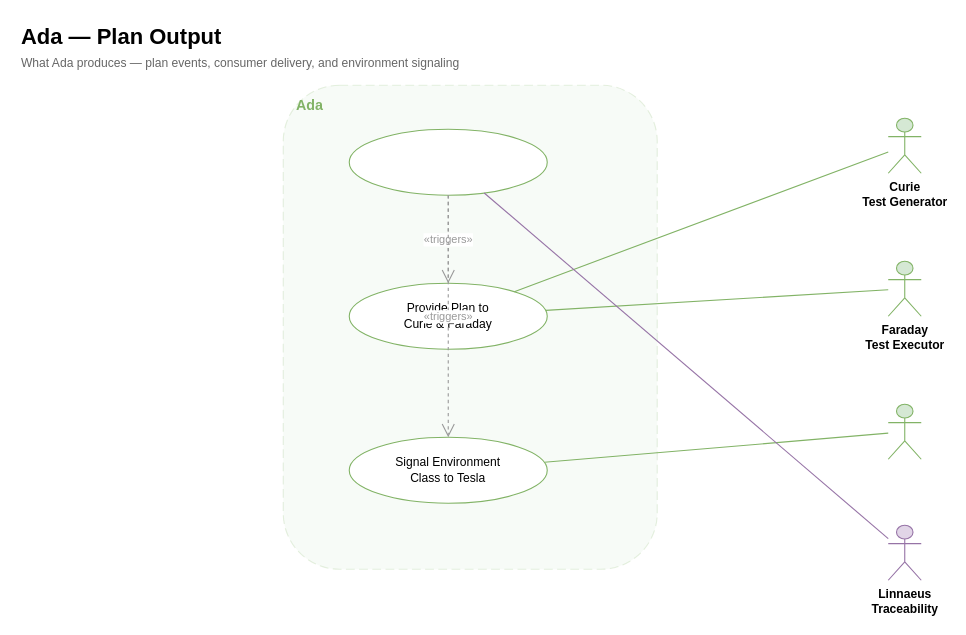
Some shapes in this 966 by 635 pixel diagram are drawn without their labels. The shapes that lost their labels are listed below. From the top down, each one's centre as x and y in pixels, then its label:
At pixel 447 161: "Emit test.plan_selected".
At pixel 904 431: "Tesla Env Manager".
